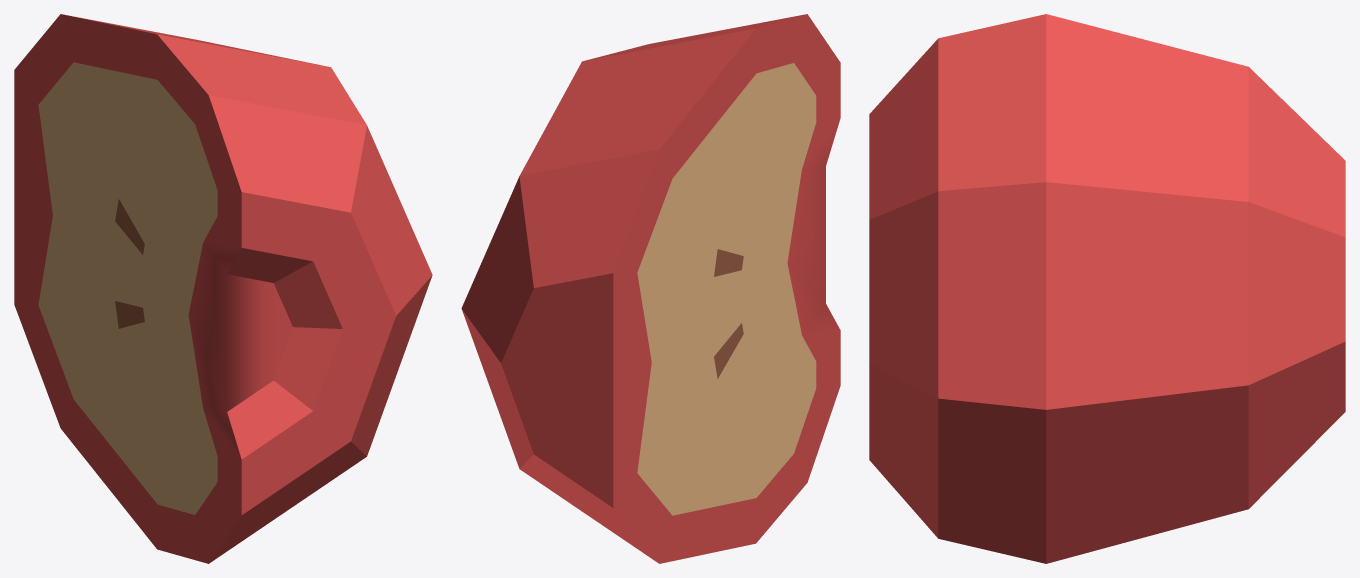
The model's file is half_apple.obj.
3 views of the same model, side by side, from view 1: azimuth 30°, elevation 25°; view 2: azimuth 150°, elevation 25°; view 3: azimuth 270°, elevation 25° (orthographic). The views are drawn at different scales.
Visible parts, largest first — view 1: appleHalf.002; view 2: appleHalf.002; view 3: appleHalf.002.
Part boxes in pixels (<box>): appleHalf.002: <box>14,14,432,563</box>; appleHalf.002: <box>461,14,840,563</box>; appleHalf.002: <box>869,14,1345,563</box>.
Bounding box in the file's own units: 0.0981 × 0.1963 × 0.157.
